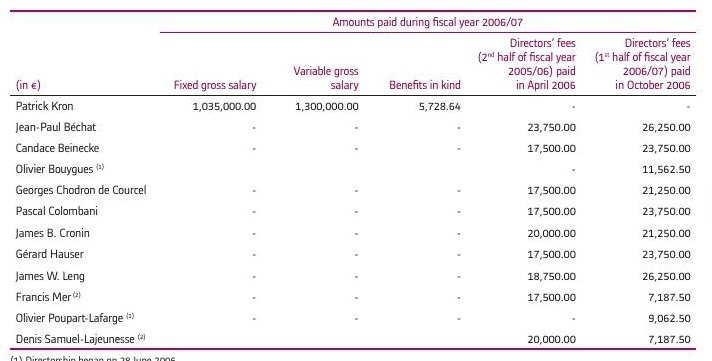table: (0, 0, 712, 361)
